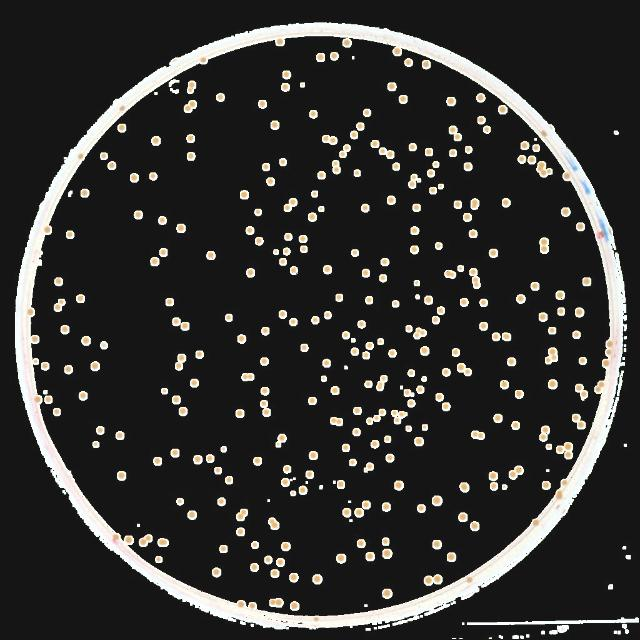colony: (393, 47, 402, 57), (387, 82, 397, 91), (459, 482, 468, 492), (422, 59, 431, 69), (153, 136, 161, 146), (237, 334, 245, 344), (380, 258, 390, 266), (212, 568, 222, 576), (282, 542, 290, 552), (382, 502, 390, 512), (433, 496, 441, 506), (459, 512, 467, 522), (509, 470, 517, 480), (452, 348, 460, 358), (549, 380, 557, 390), (502, 198, 510, 208), (477, 93, 485, 103), (394, 482, 402, 491), (188, 152, 195, 162), (148, 173, 158, 180), (344, 38, 351, 48), (180, 406, 187, 416), (489, 471, 496, 481), (276, 38, 284, 46), (216, 94, 224, 102), (188, 100, 196, 108), (131, 174, 139, 182), (316, 54, 324, 62), (370, 140, 378, 148), (240, 190, 248, 198), (160, 248, 168, 256), (289, 198, 297, 206), (290, 267, 298, 275), (166, 298, 174, 306), (172, 318, 180, 326), (100, 341, 108, 349), (91, 362, 99, 370), (172, 396, 180, 404), (260, 358, 268, 366), (263, 408, 271, 416), (236, 410, 244, 418), (342, 331, 350, 339), (358, 320, 366, 328), (410, 246, 418, 254), (254, 457, 262, 465), (188, 512, 196, 520), (272, 522, 280, 530), (290, 574, 298, 582), (337, 555, 345, 563), (282, 478, 290, 486), (278, 434, 286, 442), (290, 602, 298, 610), (386, 454, 394, 462), (424, 577, 432, 585), (434, 576, 442, 584), (515, 466, 523, 474), (436, 393, 444, 401), (501, 381, 509, 389), (508, 358, 516, 366), (516, 391, 524, 399), (494, 415, 502, 423), (511, 422, 519, 430), (541, 426, 549, 434), (564, 442, 572, 450), (573, 330, 581, 338), (424, 296, 432, 304), (460, 298, 468, 306), (575, 308, 583, 316), (556, 290, 564, 298), (490, 250, 498, 258), (448, 98, 456, 106), (499, 106, 507, 114), (466, 576, 474, 584), (404, 58, 412, 66), (118, 472, 125, 481), (272, 120, 278, 130), (82, 188, 88, 198), (192, 378, 198, 388), (472, 199, 478, 209), (118, 124, 125, 132), (108, 162, 115, 170), (160, 216, 167, 224), (178, 225, 185, 233), (248, 269, 255, 277), (300, 235, 308, 242), (175, 362, 182, 370), (354, 406, 361, 414), (384, 550, 391, 558), (384, 589, 391, 597), (344, 508, 351, 516), (434, 541, 441, 549), (504, 333, 511, 341), (479, 322, 486, 330), (576, 223, 584, 230), (399, 95, 407, 102), (377, 382, 383, 391), (443, 403, 449, 412), (324, 359, 331, 366), (283, 72, 289, 80), (282, 84, 288, 92), (185, 106, 191, 114), (101, 152, 107, 160), (260, 100, 266, 108), (310, 110, 316, 118), (358, 122, 364, 130), (330, 137, 338, 143), (318, 171, 324, 179), (380, 148, 388, 154), (386, 152, 394, 158), (280, 158, 286, 166), (268, 178, 274, 186), (135, 211, 141, 219), (152, 258, 158, 266), (208, 251, 214, 259), (254, 209, 262, 215), (310, 213, 316, 221), (285, 204, 291, 212), (256, 236, 262, 244), (181, 323, 189, 329), (45, 226, 51, 234), (62, 326, 68, 334), (82, 338, 90, 344), (31, 337, 39, 343), (280, 310, 286, 318), (312, 316, 318, 324), (179, 354, 185, 362), (196, 352, 204, 358), (309, 398, 317, 404), (331, 388, 339, 394), (366, 296, 372, 304), (362, 270, 370, 276), (380, 275, 388, 281), (352, 348, 358, 356), (364, 381, 372, 387), (408, 400, 414, 408), (379, 408, 385, 416), (412, 226, 418, 234), (80, 392, 86, 400), (35, 396, 41, 404), (97, 427, 103, 435), (116, 432, 122, 440), (154, 457, 160, 465), (172, 449, 178, 457), (194, 456, 202, 462), (219, 498, 225, 506), (220, 546, 228, 552), (252, 540, 258, 548), (314, 576, 320, 584), (367, 552, 373, 560), (300, 486, 306, 494), (307, 470, 313, 478), (338, 480, 344, 488), (356, 508, 362, 516), (362, 502, 370, 508), (276, 599, 282, 607), (342, 445, 350, 451), (350, 458, 356, 466), (372, 440, 378, 448), (416, 438, 422, 446), (417, 504, 423, 512), (448, 553, 454, 561), (470, 524, 478, 530), (491, 482, 497, 490), (544, 482, 550, 490), (443, 368, 449, 376), (422, 347, 428, 355), (458, 364, 464, 372), (565, 452, 573, 458), (572, 415, 580, 421), (576, 384, 582, 392), (595, 386, 601, 394), (602, 359, 608, 367), (578, 357, 586, 363), (548, 348, 556, 354), (548, 327, 556, 333), (584, 278, 590, 286), (532, 282, 538, 290), (472, 282, 480, 288), (362, 204, 368, 212), (388, 196, 394, 204), (562, 208, 568, 216), (563, 173, 569, 181), (426, 148, 432, 156), (450, 126, 456, 134), (522, 142, 528, 150), (528, 156, 534, 164), (538, 162, 546, 168), (540, 128, 546, 136), (188, 136, 195, 142), (331, 52, 337, 59), (246, 228, 252, 235), (54, 304, 61, 310), (242, 374, 248, 381), (248, 374, 254, 381), (160, 540, 167, 546), (354, 429, 361, 435), (465, 369, 471, 376), (493, 334, 499, 341), (464, 213, 470, 220), (465, 163, 471, 170), (454, 134, 461, 140), (398, 413, 408, 417), (200, 58, 206, 64), (364, 110, 370, 116), (340, 152, 346, 158), (333, 159, 339, 165), (354, 170, 360, 176), (312, 191, 318, 197), (283, 248, 289, 254), (301, 246, 307, 252), (280, 259, 286, 265), (324, 266, 330, 272), (226, 314, 232, 320), (56, 278, 62, 284), (78, 296, 84, 302), (28, 310, 34, 316), (262, 328, 268, 334), (325, 312, 331, 318), (162, 388, 168, 394), (302, 345, 308, 351), (262, 388, 268, 394), (352, 249, 358, 255), (363, 352, 369, 358), (381, 375, 387, 381), (408, 370, 414, 376), (404, 390, 410, 396), (42, 363, 48, 369), (66, 366, 72, 372), (54, 409, 60, 415), (207, 456, 213, 462), (225, 478, 231, 484), (126, 537, 132, 543), (140, 540, 146, 546), (177, 498, 183, 504), (237, 514, 243, 520), (238, 528, 244, 534), (278, 559, 284, 565), (272, 570, 278, 576), (358, 540, 364, 546), (382, 539, 388, 545), (284, 466, 290, 472), (310, 452, 316, 458), (330, 418, 336, 424), (336, 419, 342, 425), (366, 464, 372, 470), (406, 426, 412, 432), (472, 431, 478, 437), (539, 434, 545, 440), (578, 422, 584, 428), (581, 392, 587, 398), (598, 381, 604, 387), (608, 341, 614, 347), (553, 355, 559, 361), (544, 358, 550, 364), (420, 330, 426, 336), (432, 317, 438, 323), (438, 308, 444, 314), (481, 300, 487, 306), (540, 314, 546, 320), (558, 309, 564, 315), (518, 296, 524, 302), (450, 272, 456, 278), (470, 269, 476, 275), (541, 238, 547, 244), (541, 246, 547, 252), (469, 231, 475, 237), (409, 182, 415, 188), (428, 170, 434, 176), (410, 144, 416, 150), (478, 117, 484, 123), (483, 127, 489, 133), (518, 156, 524, 162), (536, 166, 542, 172), (313, 616, 319, 622), (352, 131, 356, 139), (344, 146, 352, 150), (334, 166, 338, 174), (394, 162, 398, 170), (68, 230, 72, 238), (286, 232, 290, 240), (240, 510, 248, 514), (250, 566, 258, 570), (558, 490, 562, 498), (542, 169, 546, 177), (59, 300, 66, 304), (390, 349, 394, 356), (190, 81, 194, 87), (188, 88, 192, 94), (324, 136, 328, 142), (264, 164, 268, 170), (290, 319, 294, 325), (337, 294, 341, 300), (262, 401, 266, 407), (368, 344, 374, 348), (392, 410, 396, 416), (46, 397, 50, 403), (114, 534, 118, 540), (270, 518, 274, 524), (266, 557, 270, 563), (238, 602, 244, 606), (249, 604, 255, 608), (271, 600, 275, 606), (374, 416, 380, 420), (368, 419, 372, 425), (422, 426, 428, 430), (418, 388, 424, 392), (558, 446, 562, 452), (396, 417, 400, 423), (532, 520, 538, 524), (606, 350, 612, 354), (406, 325, 410, 331), (414, 280, 418, 286), (436, 243, 440, 249), (458, 266, 462, 272), (473, 278, 479, 282), (414, 204, 418, 210), (456, 202, 460, 208), (412, 174, 416, 180), (432, 188, 436, 194), (452, 150, 456, 156), (466, 147, 470, 153), (120, 106, 126, 110), (78, 155, 84, 159), (319, 206, 323, 210), (274, 250, 278, 254), (322, 376, 326, 380), (394, 302, 398, 306), (379, 339, 383, 343), (34, 359, 38, 363), (94, 442, 98, 446), (216, 468, 220, 472), (146, 536, 150, 540), (156, 558, 160, 562), (291, 491, 295, 495), (276, 442, 280, 446), (480, 434, 484, 438), (546, 445, 550, 449), (562, 480, 566, 484), (415, 333, 419, 337), (417, 328, 421, 332), (446, 270, 448, 278), (416, 295, 420, 299), (434, 163, 438, 167), (535, 146, 539, 150), (549, 170, 553, 174), (300, 83, 304, 87), (386, 436, 388, 442), (440, 184, 442, 190), (222, 447, 224, 451), (422, 378, 426, 380), (502, 486, 506, 488), (352, 338, 354, 342), (418, 180, 420, 182), (411, 394, 414, 394)
